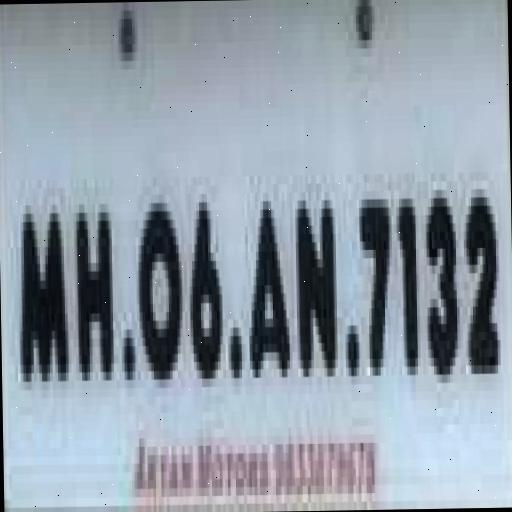number plate: (0, 37, 492, 482)
